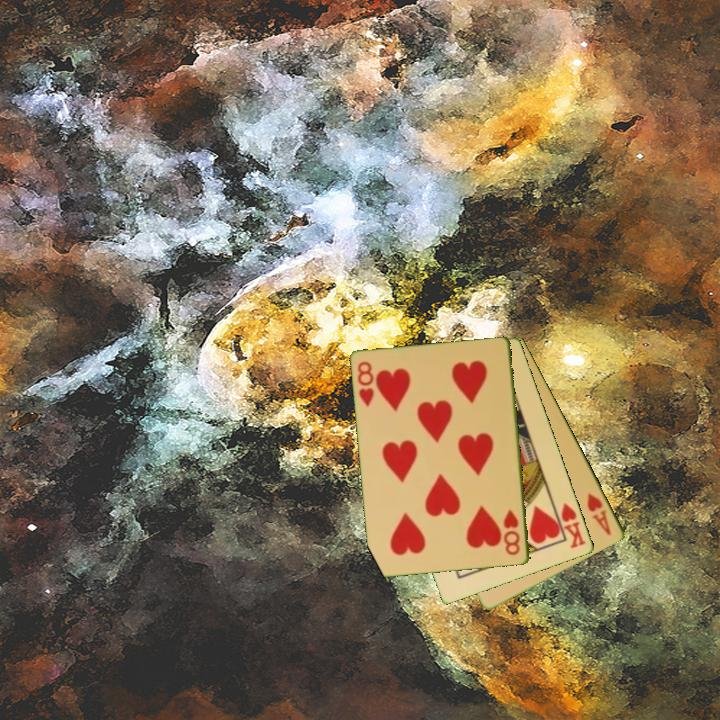8h: (500, 506, 523, 558), (354, 358, 377, 409)
Ah: (584, 490, 615, 538)
Kh: (551, 499, 589, 551)
